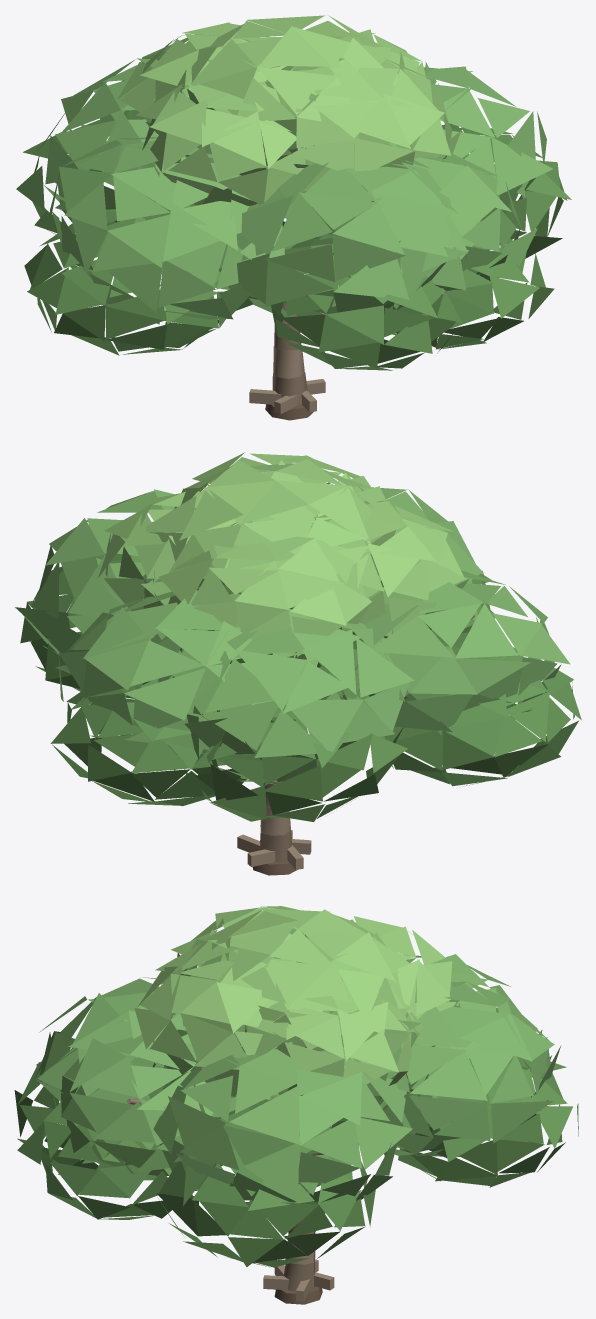
The model's file is south_indian_village_shade_tree.glb.
3 renders of one model, top to bottom at view 1: azimuth 30°, elevation 25°; view 2: azimuth 150°, elevation 25°; view 3: azimuth 270°, elevation 25°, orthographic. The views are drawn at different scales.
Visible parts, largest first — view 1: Shade_Tree_Dense_Canopy, Shade_Tree_Trunk_Shaft; view 2: Shade_Tree_Dense_Canopy, Shade_Tree_Trunk_Shaft; view 3: Shade_Tree_Dense_Canopy, Shade_Tree_Trunk_Shaft, Tree_Subgrade_Root_Skirt.
Part boxes in pixels (x1,y1,x2,y2): Shade_Tree_Dense_Canopy: [16, 15, 571, 370]; Shade_Tree_Trunk_Shaft: [249, 303, 325, 414]; Shade_Tree_Dense_Canopy: [15, 452, 581, 821]; Shade_Tree_Trunk_Shaft: [237, 776, 311, 869]; Shade_Tree_Dense_Canopy: [14, 906, 578, 1267]; Shade_Tree_Trunk_Shaft: [263, 1191, 334, 1301]; Tree_Subgrade_Root_Skirt: [274, 1286, 322, 1304].
Size of the model in its own units: 13.25 by 9.35 by 12.84.
